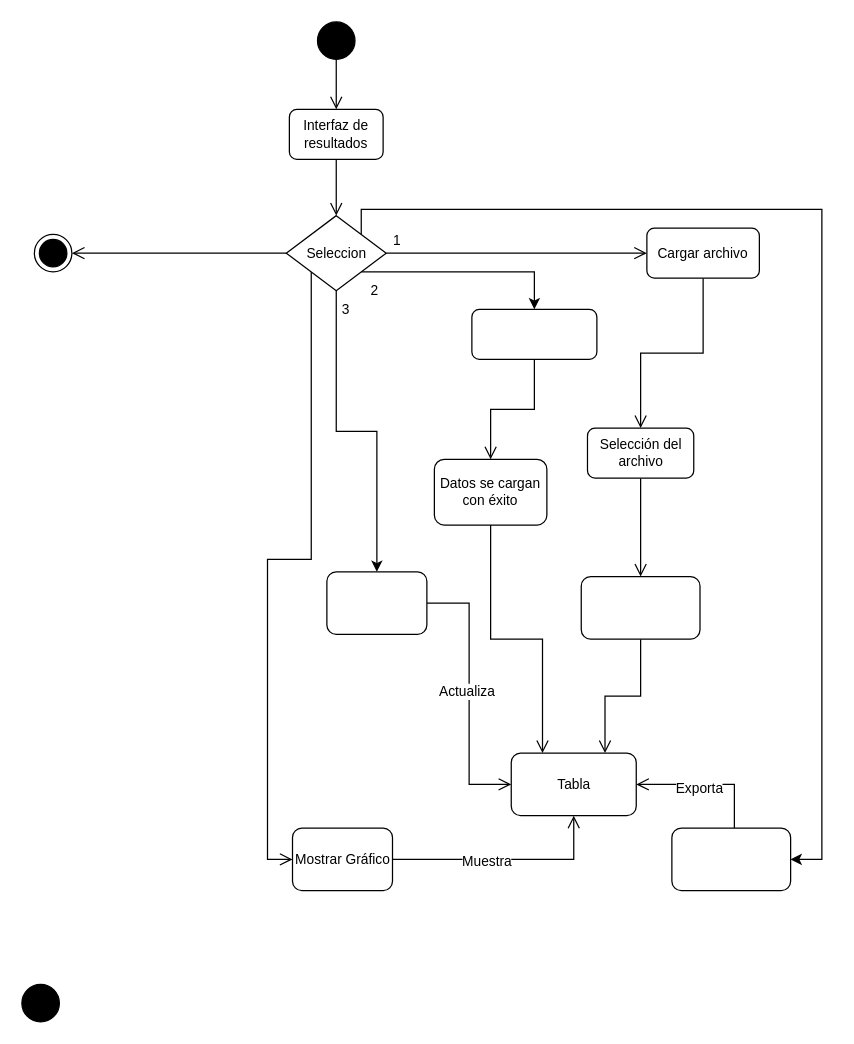
The diagram is 854 pixels wide and 1044 high, and some of its shapes have lost their labels. Each missing label, with the box of its shape:
Aplicar filtros: (326, 571, 427, 634)
Archivo se carga con éxito: (580, 575, 700, 639)
Conectar al ICFES: (471, 308, 597, 359)
Exportar a Excel: (671, 827, 791, 891)
